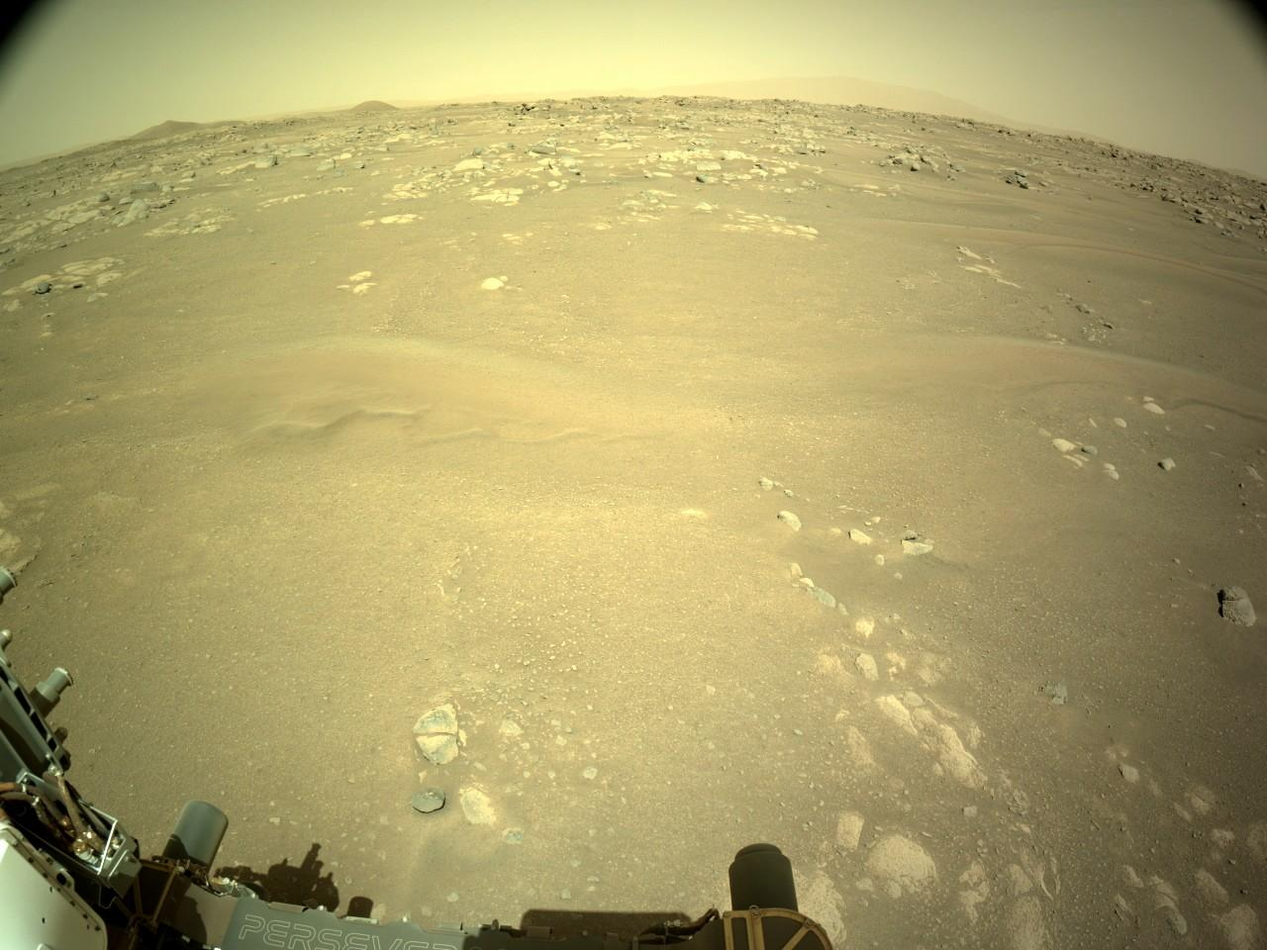bedrock: (6, 100, 1264, 305), (780, 631, 1263, 949), (820, 561, 939, 652), (378, 901, 532, 912), (825, 222, 845, 239), (795, 613, 816, 626), (4, 501, 5, 507)
sand: (974, 242, 1266, 720), (171, 339, 646, 433), (615, 381, 623, 383)
soil: (6, 216, 1259, 922), (502, 471, 532, 474), (1037, 325, 1047, 329), (1254, 943, 1256, 946)
